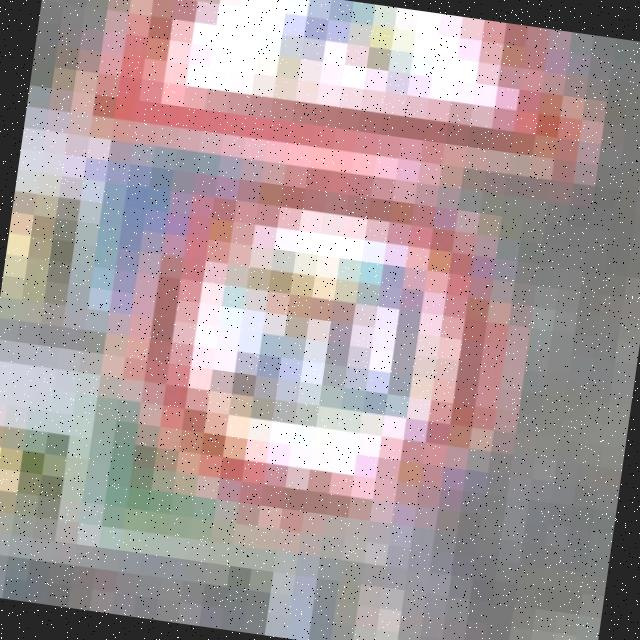Ograniczenie predkosci do 20: (117, 142, 533, 547)
Ograniczenie predkosci do 30: (126, 145, 531, 547)
